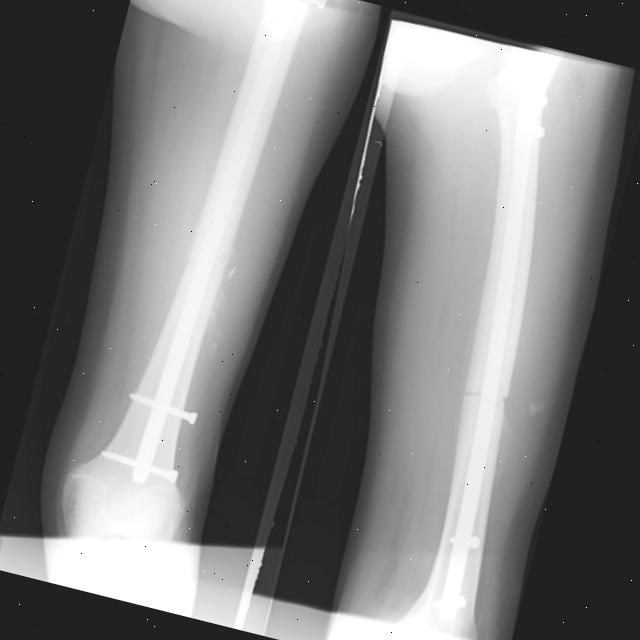Fracture: (461, 386, 511, 411), (183, 256, 231, 276)
